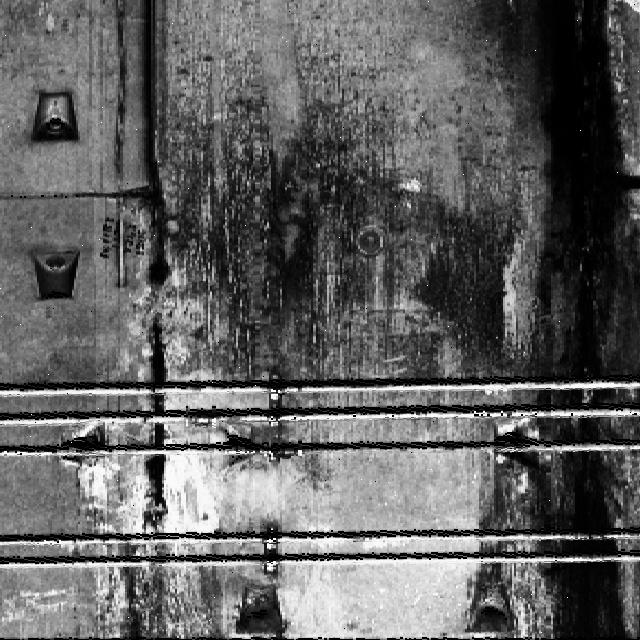leakage: (472, 0, 640, 634), (131, 0, 179, 528)
